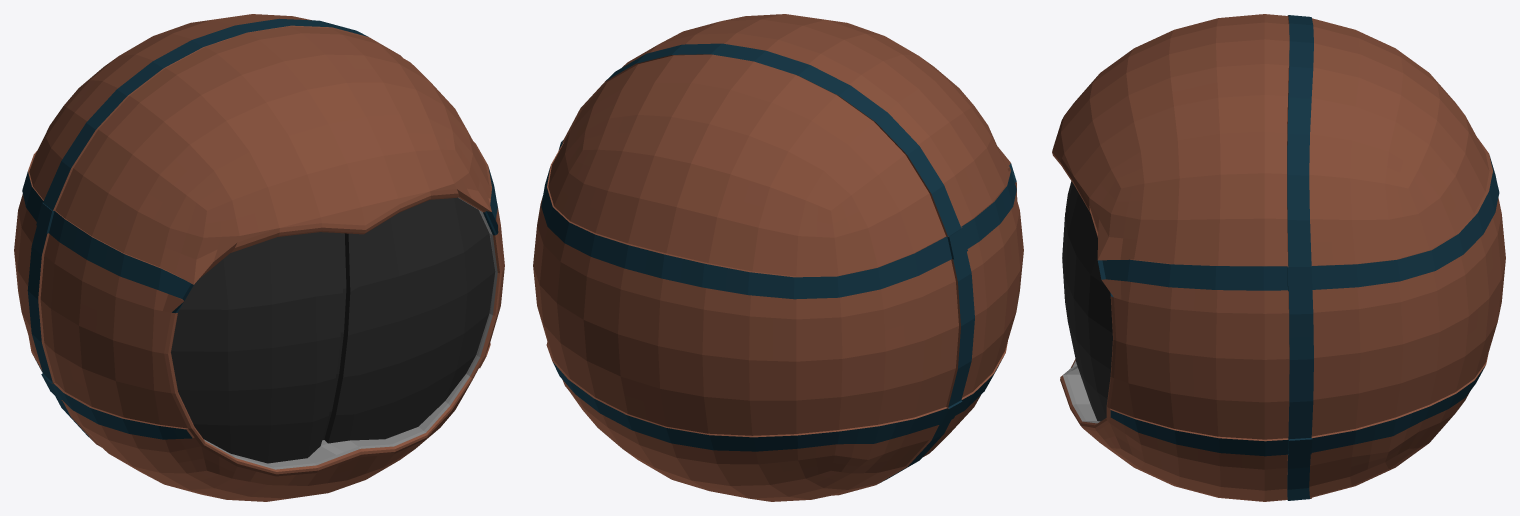
Rendered from ShiddyBobot.fbx.
3 views of the same model, side by side, from view 1: azimuth 30°, elevation 25°; view 2: azimuth 150°, elevation 25°; view 3: azimuth 270°, elevation 25° (orthographic).
Parts seen in each view (by area): view 1: m4; view 2: m4; view 3: m4.
Part boxes in pixels (box(x1,y1,x2,y2)): m4: box(14, 14, 504, 501); m4: box(533, 14, 1023, 501); m4: box(1052, 14, 1505, 501).
Size of the model in its own units: 168 by 168 by 158.
